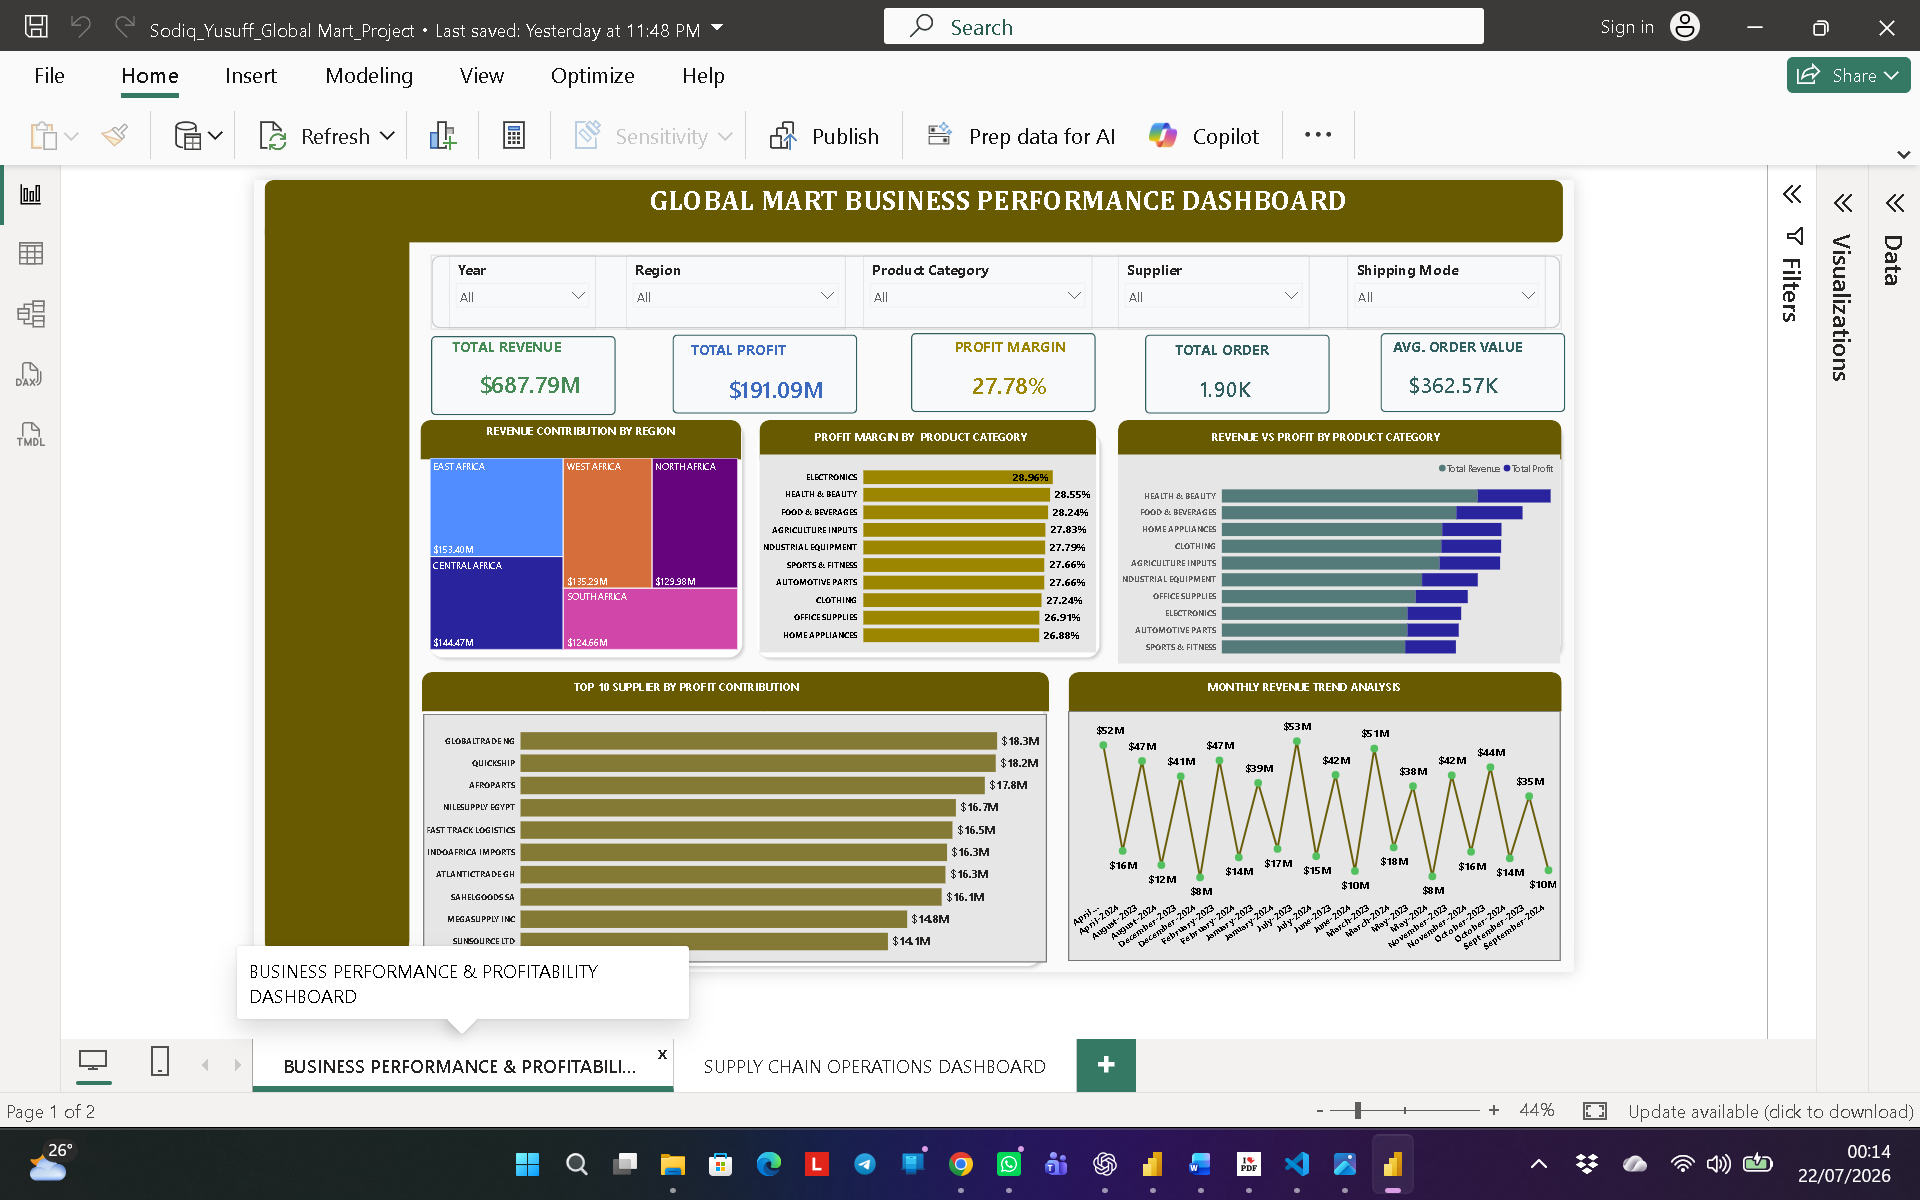

This screenshot's page, from the dashboard's own definition file:
{"tool":"powerbi","page":{"name":" BUSINESS PERFORMANCE & PROFITABILITY DASHBOARD","canvas":[2000,1200],"ordinal":0},"visuals":[{"type":"shape","box":[15,45,220,1137.5],"z":0},{"type":"shape","box":[15,0,1967.5,95],"z":1000},{"type":"shape","box":[267.5,112.5,1712.5,112.5],"z":2000},{"type":"shape","box":[268,236,280,120],"z":3000},{"type":"shape","box":[256,356,492,376],"z":4000},{"type":"shape","box":[635,235,280,120],"z":5000},{"type":"shape","box":[995,232.5,280,120],"z":6000},{"type":"shape","box":[1350,235,280,120],"z":7000},{"type":"textbox","box":[296,232,200,44],"z":8000},{"type":"textbox","box":[656,236,200,40],"z":9000},{"type":"textbox","box":[1016,232,260,68],"z":10000},{"type":"textbox","box":[1390,236,200,40],"z":11000},{"type":"slicer","fields":{"Values":["Calender.Year"]},"box":[295,112.5,222.5,112.5],"z":12000},{"type":"slicer","fields":{"Values":["Global Mart Clean.Region"]},"box":[562.5,112.5,332.5,112.5],"z":13000},{"type":"slicer","fields":{"Values":["Global Mart Clean.Product Category"]},"box":[922.5,112.5,347.5,112.5],"z":14000},{"type":"slicer","fields":{"Values":["Global Mart Clean.Supplier"]},"box":[1310,112.5,290,112.5],"z":15000},{"type":"slicer","fields":{"Values":["Global Mart Clean.Shipping Mode"]},"box":[1657.5,112.5,300,112.5],"z":16000},{"type":"cardVisual","fields":{"Data":["Measure.Total Revenue"]},"box":[312,264,236,88],"z":17000},{"type":"cardVisual","fields":{"Data":["Measure.Total Profit"]},"box":[688,276,224,80],"z":18000},{"type":"cardVisual","fields":{"Data":["Measure.Profit Margin"]},"box":[1058,276,218,70],"z":19000},{"type":"cardVisual","fields":{"Data":["Measure.Total Order"]},"box":[1404,276,226,80],"z":20000},{"type":"shape","box":[752,372,538,360],"z":21000},{"type":"shape","box":[1310,356,680,376],"z":22000},{"type":"shape","box":[252,364,486,60],"z":23000},{"type":"shape","box":[766,364,510,60],"z":24000},{"type":"shape","box":[1310,364,672,60],"z":25000},{"type":"textbox","box":[315,363.3,360,43.3],"z":26000},{"type":"textbox","box":[816,372,390,44],"z":27000},{"type":"textbox","box":[1430,372,390,44],"z":28000},{"type":"shape","box":[245,745,960,455],"z":29000},{"type":"shape","box":[255,745,950,60],"z":30000},{"type":"shape","box":[1235,745,747.5,437.5],"z":31000},{"type":"shape","box":[1235,745,747.5,60],"z":32000},{"type":"textbox","box":[396,752,520,44],"z":33000},{"type":"textbox","box":[1332,752,520,44],"z":34000},{"type":"barChart","fields":{"Y":["Measure.Total Profit"],"Category":["Global Mart Edited.Supplier"]},"box":[256,808,944,376],"z":35000},{"type":"lineChart","fields":{"Category":["Calender.Year/ Month"],"Y":["Measure.Total Revenue"]},"box":[1235,805,745,378.3],"z":36000},{"type":"shape","box":[1707.5,232.5,280,120],"z":37000},{"type":"textbox","box":[1720,232,260,40],"z":38000},{"type":"cardVisual","fields":{"Data":["Measure.Average Order Value"]},"box":[1720,268,262,80],"z":39000},{"type":"barChart","fields":{"Category":["Global Mart Clean.Product Category"],"Y":["Measure.Total Revenue","Measure.Total Profit"]},"box":[1310,415,670,316.7],"z":40000},{"type":"barChart","fields":{"Y":["Measure.Profit Margin"],"Category":["Global Mart Clean.Product Category"]},"box":[766,416,510,300],"z":41000},{"type":"treemap","fields":{"Group":["Global Mart Clean.Region"],"Values":["Measure.Total Revenue"]},"box":[262,416,476,300],"z":42000},{"type":"textbox","box":[332,0,1583,78],"z":43000}]}

Visuals, with their boxes on the page's 2000x1200 design canvas (x1, y1, x2, y2). These are canvas units, not pixel positions in the 1920x1200 screenshot, which may show the page scaled, cropped or inside an application window:
shape: [x1=15, y1=45, x2=235, y2=1182]
shape: [x1=15, y1=0, x2=1982, y2=95]
shape: [x1=268, y1=112, x2=1980, y2=225]
shape: [x1=268, y1=236, x2=548, y2=356]
shape: [x1=256, y1=356, x2=748, y2=732]
shape: [x1=635, y1=235, x2=915, y2=355]
shape: [x1=995, y1=232, x2=1275, y2=352]
shape: [x1=1350, y1=235, x2=1630, y2=355]
textbox: [x1=296, y1=232, x2=496, y2=276]
textbox: [x1=656, y1=236, x2=856, y2=276]
textbox: [x1=1016, y1=232, x2=1276, y2=300]
textbox: [x1=1390, y1=236, x2=1590, y2=276]
slicer - Calender.Year: [x1=295, y1=112, x2=518, y2=225]
slicer - Global Mart Clean.Region: [x1=562, y1=112, x2=895, y2=225]
slicer - Global Mart Clean.Product Category: [x1=922, y1=112, x2=1270, y2=225]
slicer - Global Mart Clean.Supplier: [x1=1310, y1=112, x2=1600, y2=225]
slicer - Global Mart Clean.Shipping Mode: [x1=1658, y1=112, x2=1958, y2=225]
cardVisual - Measure.Total Revenue: [x1=312, y1=264, x2=548, y2=352]
cardVisual - Measure.Total Profit: [x1=688, y1=276, x2=912, y2=356]
cardVisual - Measure.Profit Margin: [x1=1058, y1=276, x2=1276, y2=346]
cardVisual - Measure.Total Order: [x1=1404, y1=276, x2=1630, y2=356]
shape: [x1=752, y1=372, x2=1290, y2=732]
shape: [x1=1310, y1=356, x2=1990, y2=732]
shape: [x1=252, y1=364, x2=738, y2=424]
shape: [x1=766, y1=364, x2=1276, y2=424]
shape: [x1=1310, y1=364, x2=1982, y2=424]
textbox: [x1=315, y1=363, x2=675, y2=407]
textbox: [x1=816, y1=372, x2=1206, y2=416]
textbox: [x1=1430, y1=372, x2=1820, y2=416]
shape: [x1=245, y1=745, x2=1205, y2=1200]
shape: [x1=255, y1=745, x2=1205, y2=805]
shape: [x1=1235, y1=745, x2=1982, y2=1182]
shape: [x1=1235, y1=745, x2=1982, y2=805]
textbox: [x1=396, y1=752, x2=916, y2=796]
textbox: [x1=1332, y1=752, x2=1852, y2=796]
barChart - Measure.Total Profit x Global Mart Edited.Supplier: [x1=256, y1=808, x2=1200, y2=1184]
lineChart - Calender.Year/ Month x Measure.Total Revenue: [x1=1235, y1=805, x2=1980, y2=1183]
shape: [x1=1708, y1=232, x2=1988, y2=352]
textbox: [x1=1720, y1=232, x2=1980, y2=272]
cardVisual - Measure.Average Order Value: [x1=1720, y1=268, x2=1982, y2=348]
barChart - Global Mart Clean.Product Category x Measure.Total Revenue: [x1=1310, y1=415, x2=1980, y2=732]
barChart - Measure.Profit Margin x Global Mart Clean.Product Category: [x1=766, y1=416, x2=1276, y2=716]
treemap - Global Mart Clean.Region x Measure.Total Revenue: [x1=262, y1=416, x2=738, y2=716]
textbox: [x1=332, y1=0, x2=1915, y2=78]
